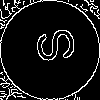S: (25, 25, 78, 68)
